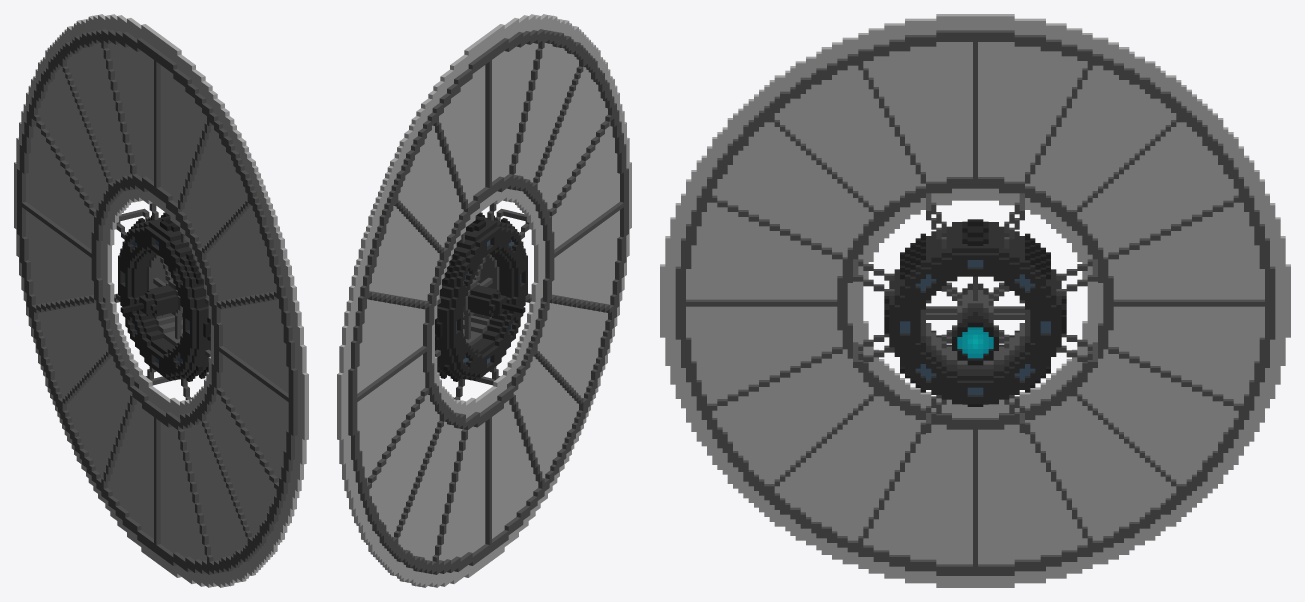
File: vaisseau.obj
The picture shows the model from 3 angles, left to right: view 1: azimuth 30°, elevation 25°; view 2: azimuth 150°, elevation 25°; view 3: azimuth 270°, elevation 25°; orthographic projection. The views are drawn at different scales.
Bounding box in the file's own units: 29 × 121 × 121.
Materials: 1 (1 with a texture image).
